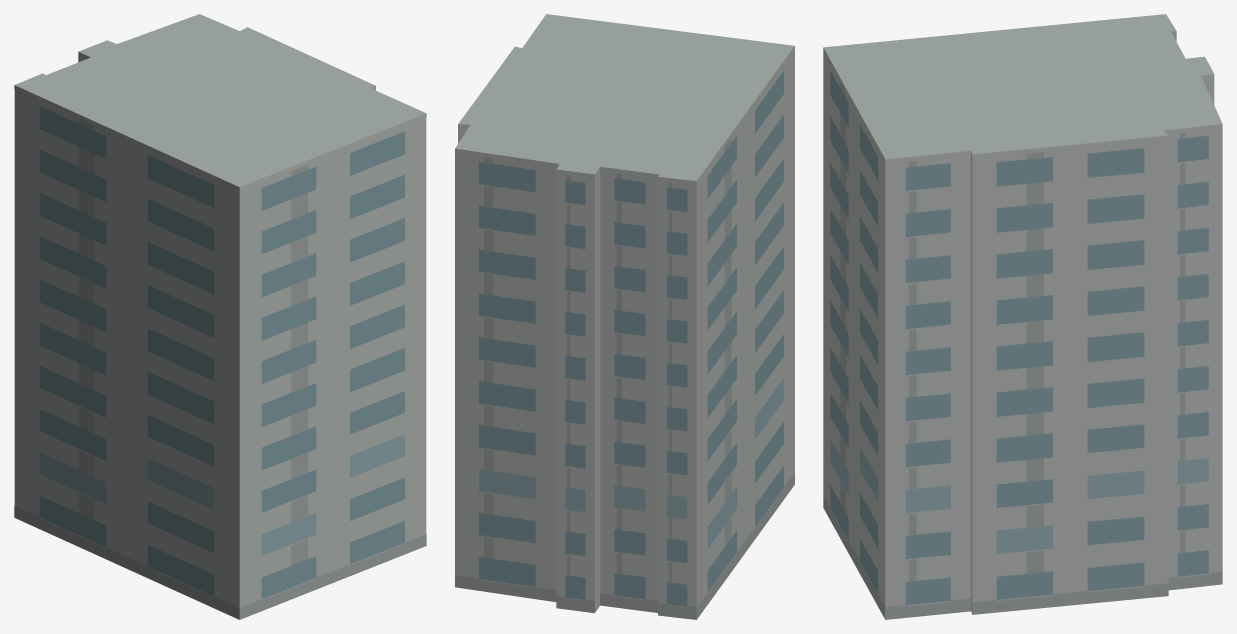
Rendered from survey-upis-32811258.glb.
The picture shows the model from 3 angles, left to right: view 1: azimuth 30°, elevation 25°; view 2: azimuth 150°, elevation 25°; view 3: azimuth 270°, elevation 25°; orthographic projection. The views are drawn at different scales.
Parts seen in each view (by area): view 1: survey-upis-32811258.tmp; view 2: survey-upis-32811258.tmp; view 3: survey-upis-32811258.tmp.
Part boxes in pixels (left/top/right/bottom): survey-upis-32811258.tmp: left=14, top=14, right=426, bottom=619; survey-upis-32811258.tmp: left=455, top=14, right=794, bottom=619; survey-upis-32811258.tmp: left=823, top=14, right=1222, bottom=619.
Size of the model in its own units: 16.81 by 24.8 by 19.5.
